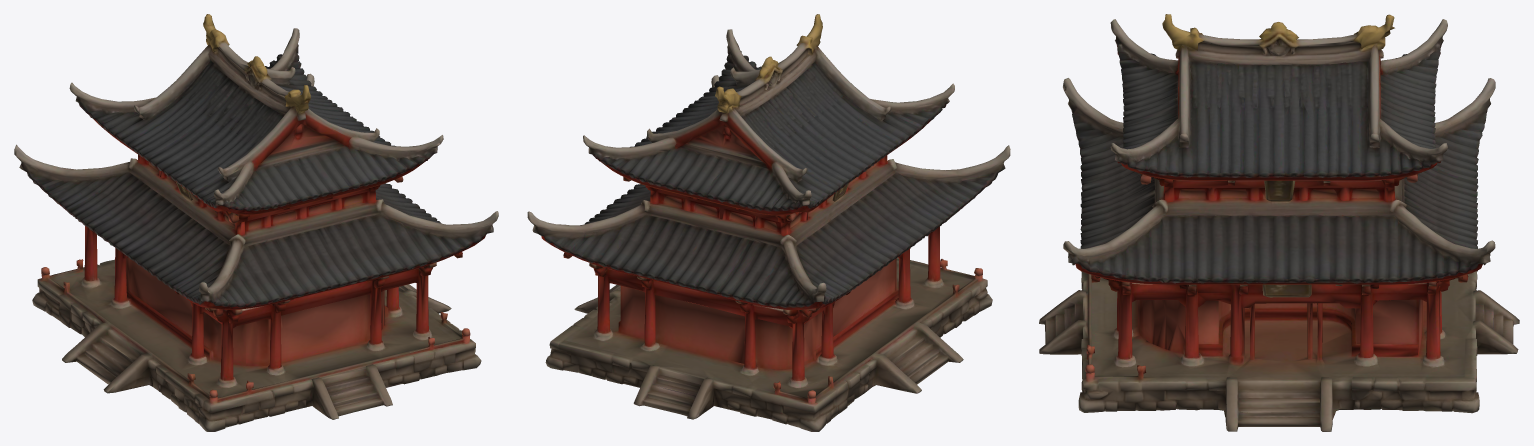
File: sect_hall.glb
The picture shows the model from 3 angles, left to right: view 1: azimuth 30°, elevation 25°; view 2: azimuth 150°, elevation 25°; view 3: azimuth 270°, elevation 25°; orthographic projection. The views are drawn at different scales.
Visible parts, largest first — view 1: tripo_node_c7c2c3ef-191c-4027-88ef-f120aaaa27d4; view 2: tripo_node_c7c2c3ef-191c-4027-88ef-f120aaaa27d4; view 3: tripo_node_c7c2c3ef-191c-4027-88ef-f120aaaa27d4.
Part boxes in pixels (<box>): tripo_node_c7c2c3ef-191c-4027-88ef-f120aaaa27d4: <box>14,14,498,431</box>; tripo_node_c7c2c3ef-191c-4027-88ef-f120aaaa27d4: <box>527,14,1010,431</box>; tripo_node_c7c2c3ef-191c-4027-88ef-f120aaaa27d4: <box>1039,14,1519,431</box>.
Bounding box in the file's own units: 0.938 × 0.7418 × 0.9999.
Materials: 1 (1 with a texture image).
